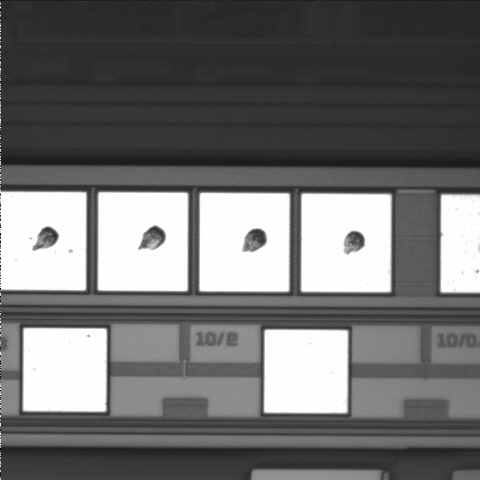pad: (98, 192, 188, 291), (200, 193, 290, 292), (301, 194, 391, 292), (23, 328, 107, 412), (264, 330, 348, 413)
